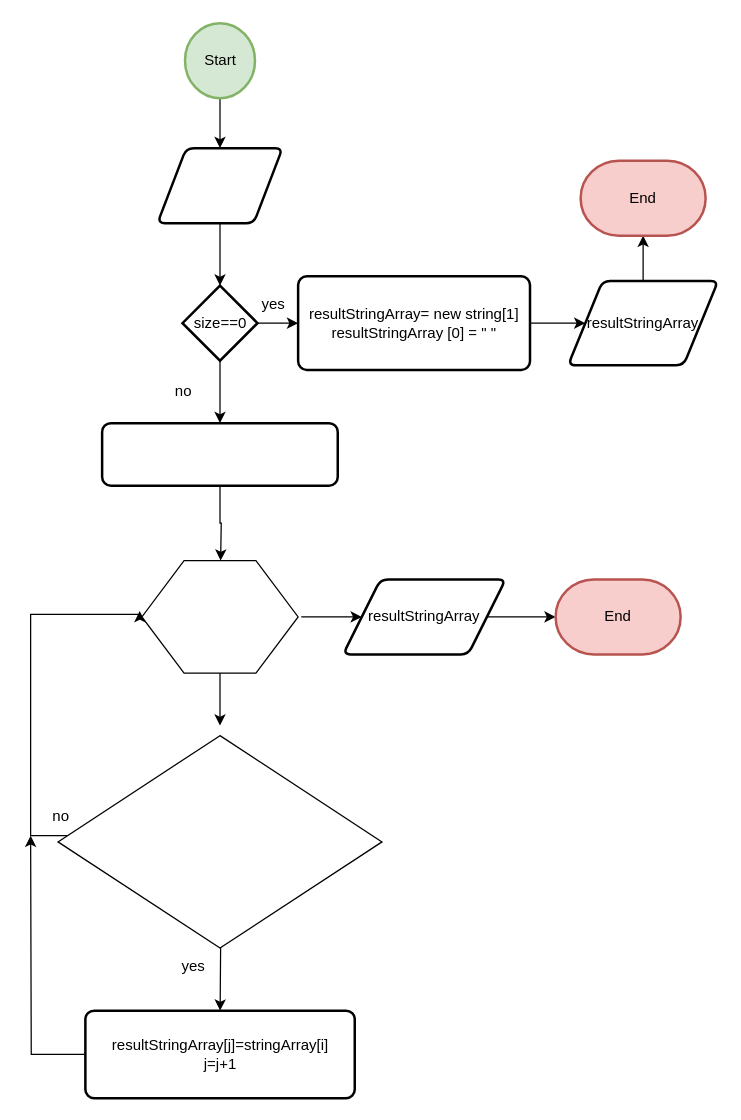
The diagram is 741 pixels wide and 1120 high, and some of its shapes have lost their labels. The shapes that lost their labels are listed below. From the top down, each one's centre as x and y in pixels, then its label:
the point at 219,185: stringArray size
the point at 219,453: j = 0 resultStringArray= new string[size]
the point at 219,616: I=0, i<stringArray.Length i= i+1
the point at 219,841: stringArray[i].Length<=3 && stringArray[i].Length !=string.Empty
